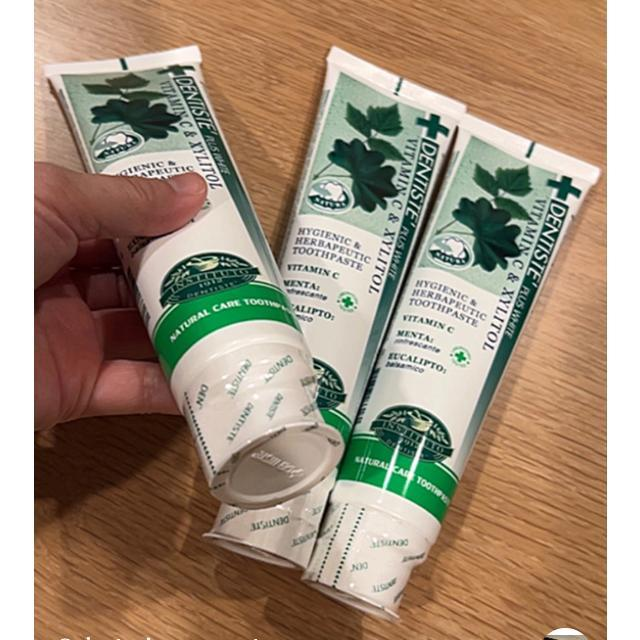Squeeze Tube: (210, 52, 619, 599), (43, 30, 394, 516)
